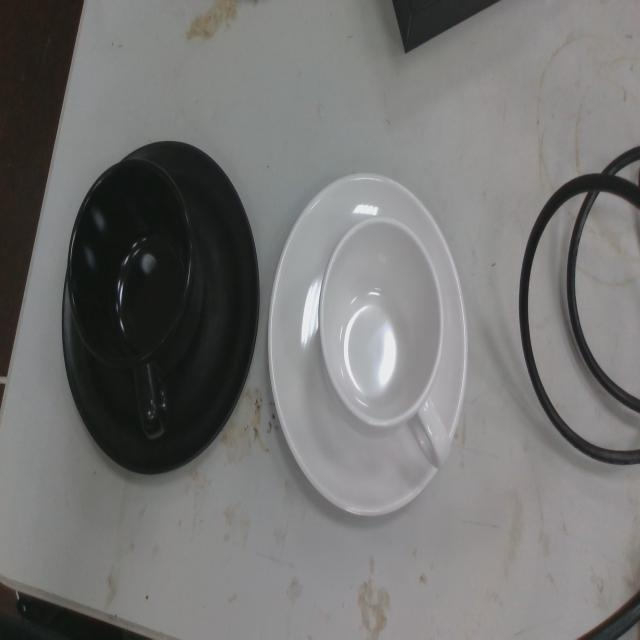black: (58, 138, 262, 480)
white: (266, 166, 470, 524)
